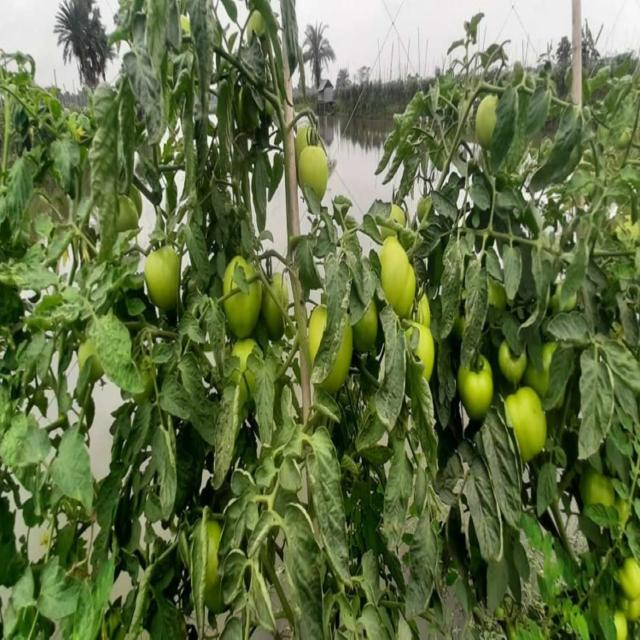tomato: (378, 237, 415, 313), (510, 387, 549, 458), (224, 256, 258, 327), (148, 248, 186, 304), (257, 273, 291, 331), (465, 357, 495, 411), (335, 322, 357, 393), (300, 142, 329, 194), (477, 93, 498, 150), (304, 299, 324, 351), (618, 561, 640, 596), (210, 518, 222, 582), (503, 350, 528, 380), (418, 321, 435, 365), (121, 195, 144, 227), (616, 607, 632, 640)
